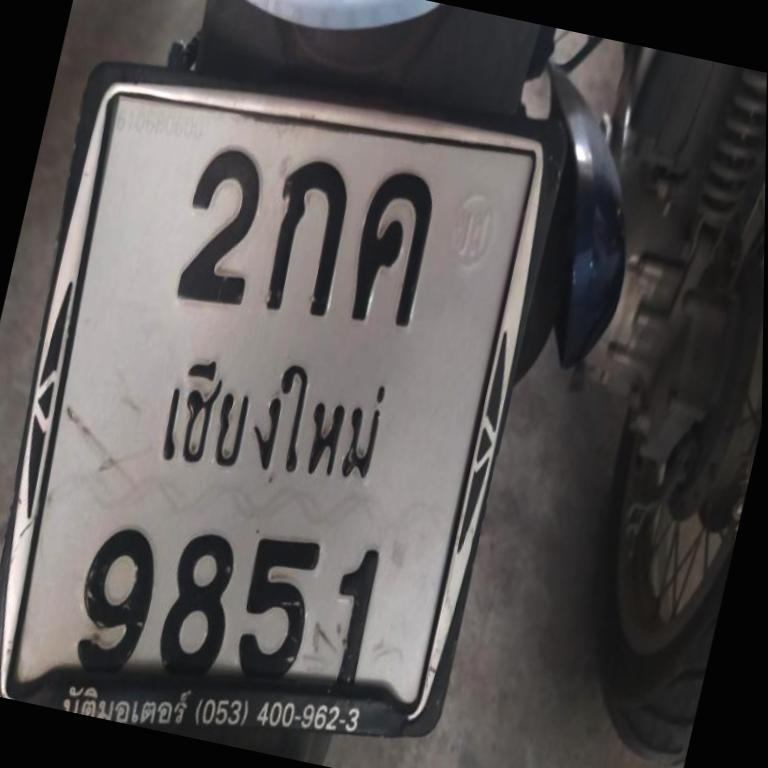license plate: (0, 68, 566, 735)
